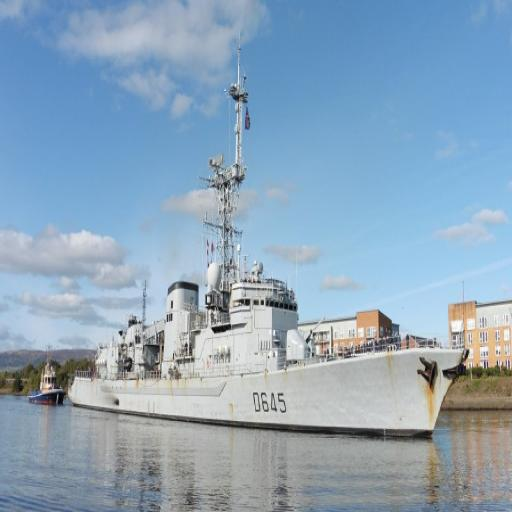Fragata: (62, 26, 474, 446)
